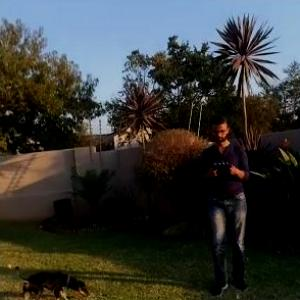follow: (200, 107, 255, 297)
null: (12, 259, 92, 299)
